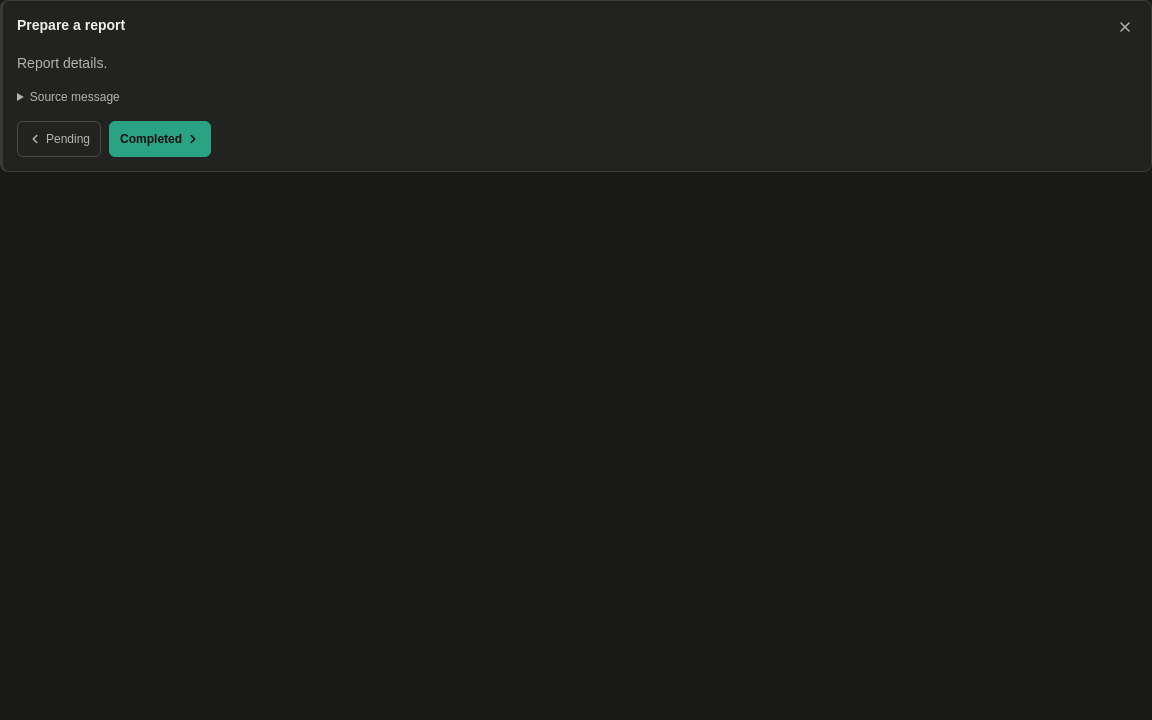
Test: confirms deletion by task title, supports cancellation, and allows deletion during a move
The image size is (1152, 720).
Step 1. Click the button named "Delete task" → x=1125, y=27, box [1109, 11, 1141, 43]
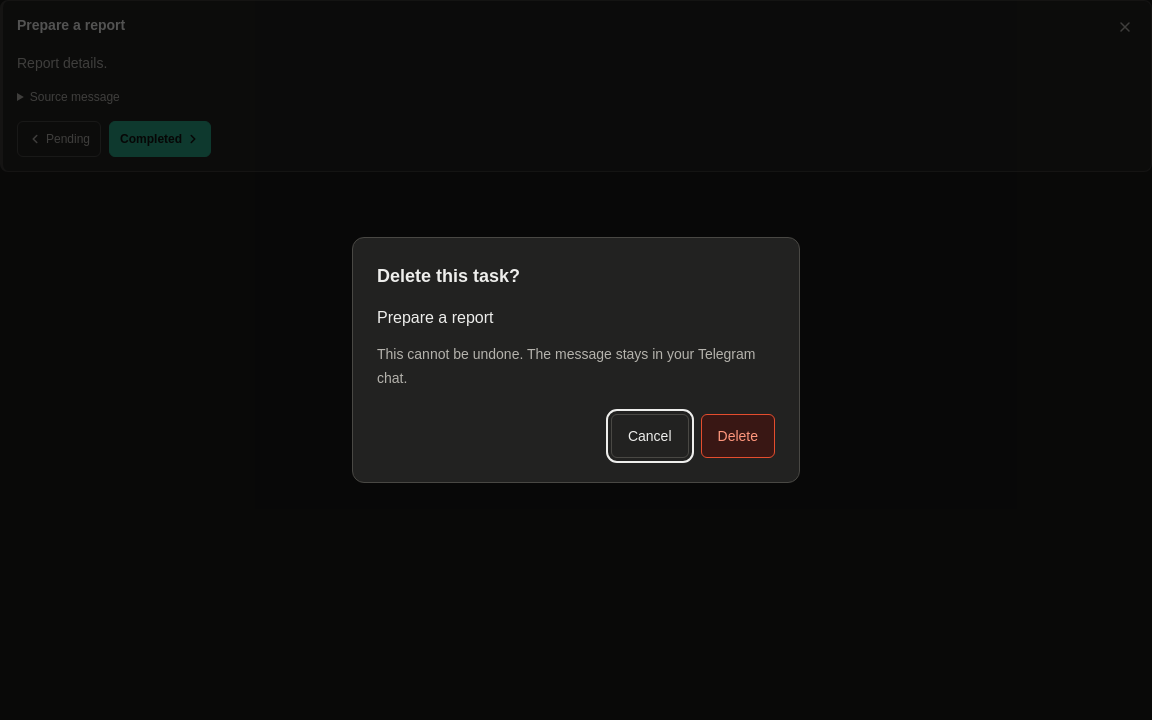
expect the text "Prepare a report" is shown: met, box [377, 309, 494, 326]
Step 2. Click the button "Cancel" → x=650, y=436, box [611, 414, 688, 458]
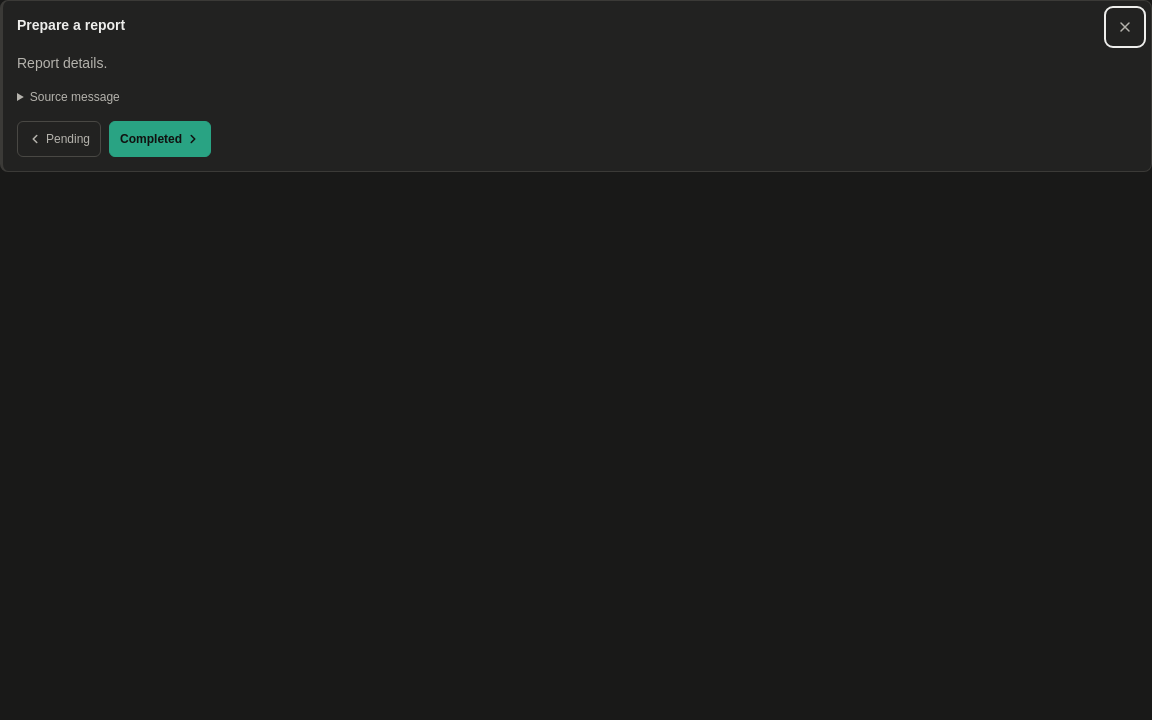
expect the dialog is gone: met
Step 3. Click the button named "Delete task" → x=1125, y=27, box [1109, 11, 1141, 43]
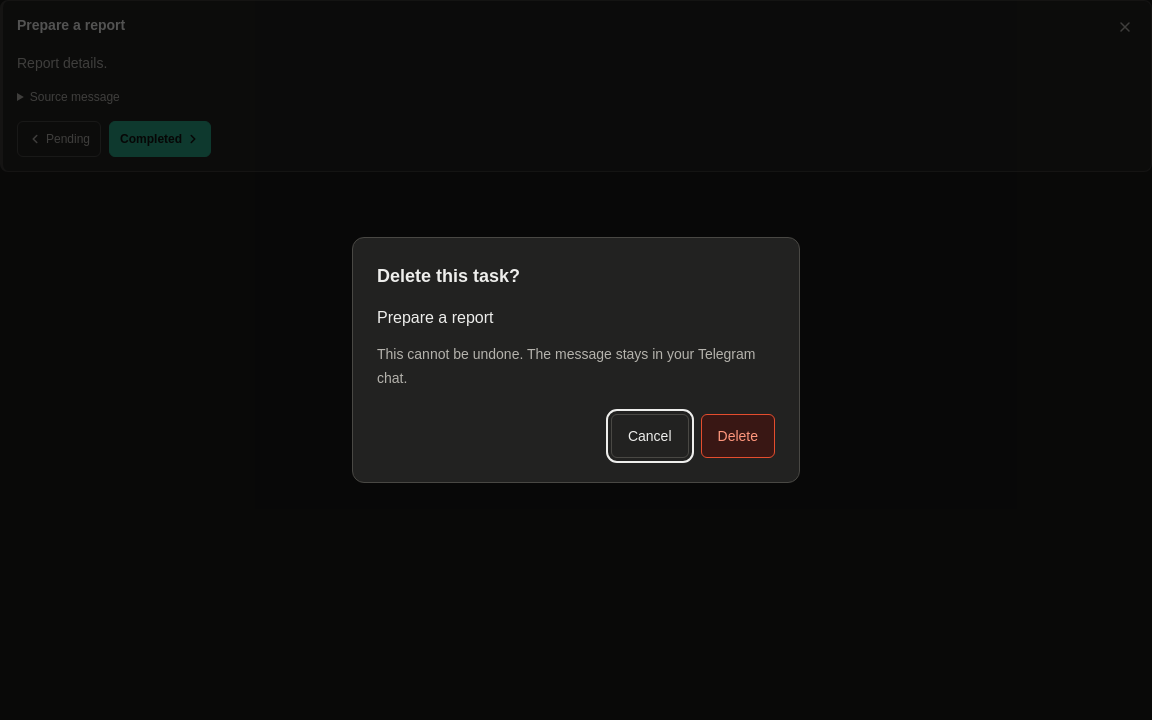
Step 4. Click the button "Delete" → x=738, y=436, box [700, 414, 775, 458]
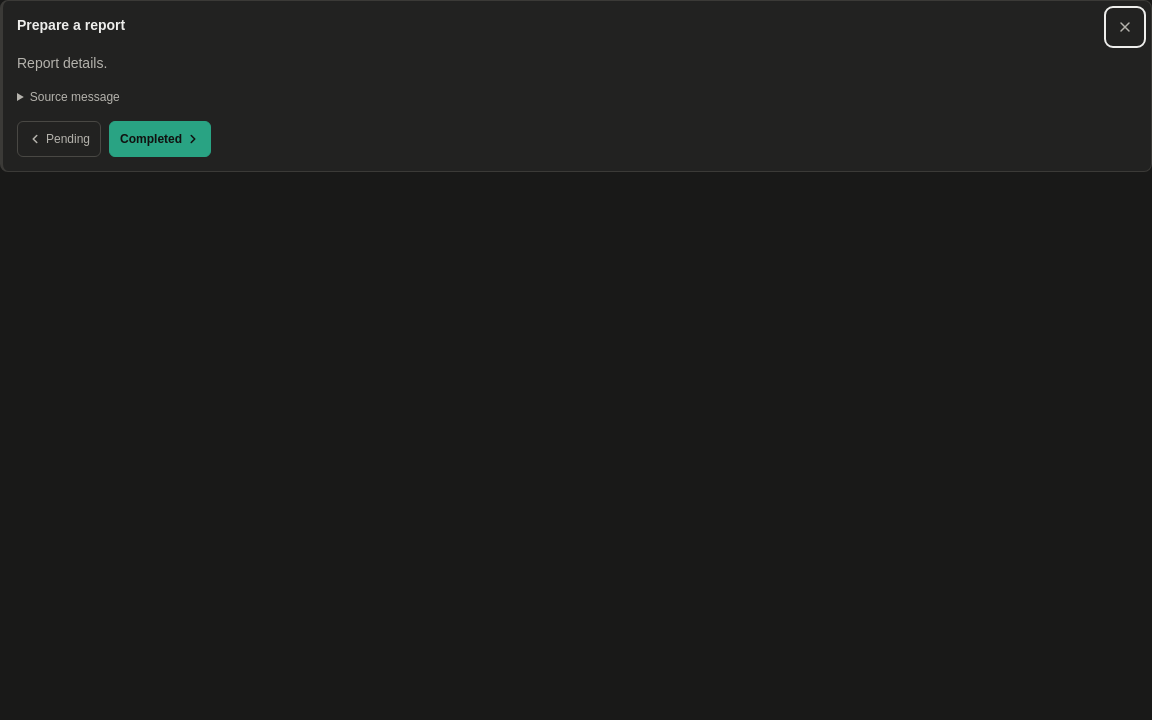
expect the dialog is gone: met
